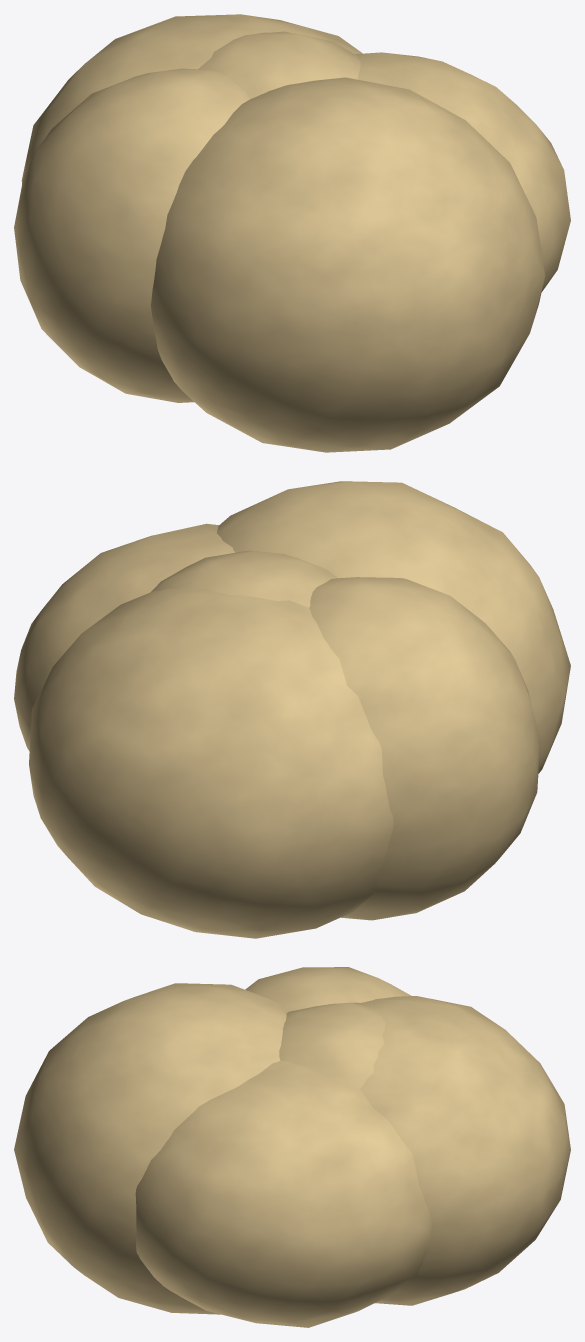
Rendered from pv_hromada_pisek.glb.
3 renders of one model, top to bottom at view 1: azimuth 30°, elevation 25°; view 2: azimuth 150°, elevation 25°; view 3: azimuth 270°, elevation 25°, orthographic. The views are drawn at different scales.
Parts seen in each view (by area): view 1: dum; view 2: dum; view 3: dum.
Part boxes in pixels (x1,y1,x2,y2): dum: (14,14,570,452); dum: (14,481,570,938); dum: (14,967,570,1327).
Bounding box in the file's own units: 9.79 × 6.48 × 11.15.
1 material, 1 textured.
